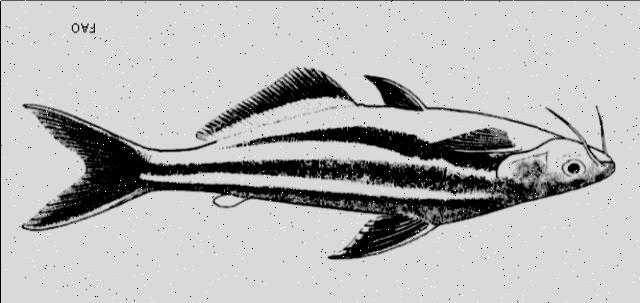Mulut: (584, 134, 620, 188)
Sirip Anal: (194, 61, 354, 145)
Sirip Dada: (437, 120, 518, 162)
Sirip Ekor: (18, 100, 148, 238)
Sirip Perut: (360, 69, 424, 117)
Sirip Punggung: (323, 211, 433, 261)
